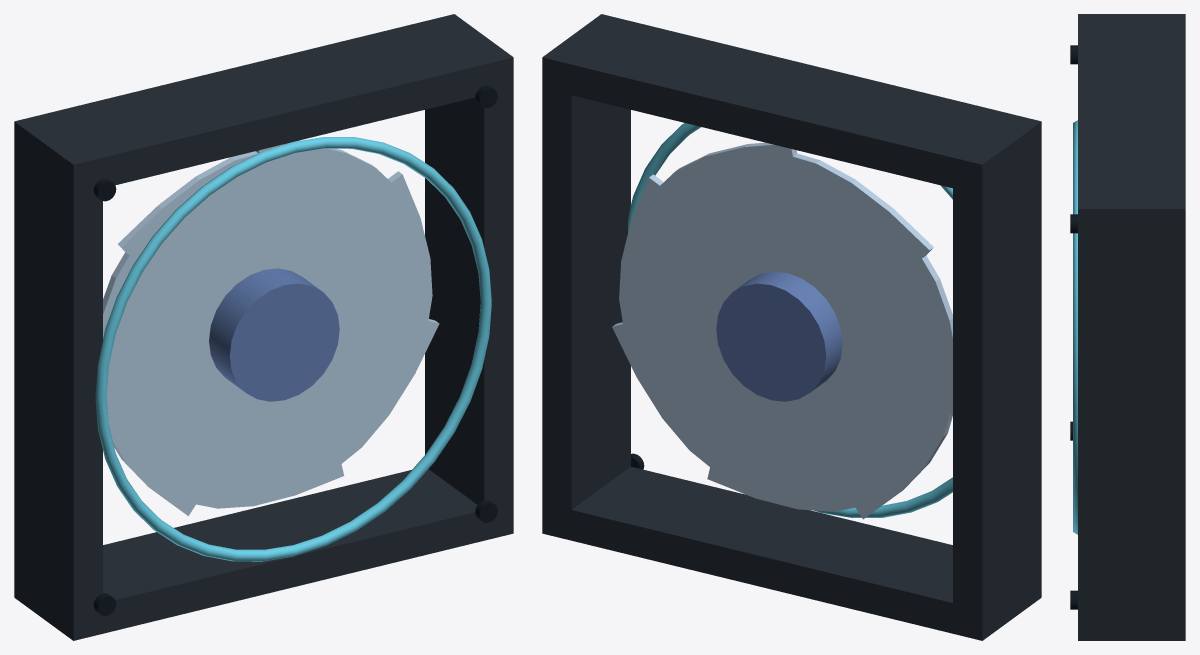
Rendered from retail-lian-li-uni-fan-tl-120-lcd-reverse-blade-wireless-black.glb.
3 views of the same model, side by side, from view 1: azimuth 30°, elevation 25°; view 2: azimuth 150°, elevation 25°; view 3: azimuth 270°, elevation 25° (orthographic). The views are drawn at different scales.
Visible parts, largest first — view 1: Frame edge (×4), Blade (×7), Intake rim, Motor hub; view 2: Frame edge (×4), Blade (×7), Motor hub, Intake rim; view 3: Frame edge (×3), Intake rim.
Part boxes in pixels (x1,y1,x2,y2): Frame edge (×4): (14, 14, 513, 640); Blade (×7): (103, 140, 439, 515); Intake rim: (95, 137, 491, 561); Motor hub: (209, 268, 339, 401); Frame edge (×4): (542, 14, 1041, 640); Blade (×7): (612, 142, 952, 519); Motor hub: (716, 271, 842, 401); Intake rim: (628, 123, 952, 517); Frame edge (×3): (1078, 14, 1185, 640); Intake rim: (1073, 120, 1077, 534).
Bounding box in the file's own units: 0.12 × 0.124 × 0.03.
